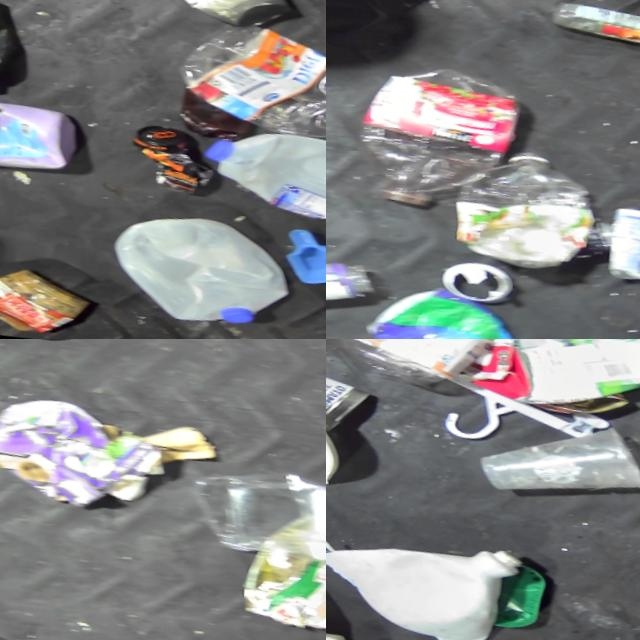can: (223, 508, 326, 640), (157, 0, 294, 51), (427, 260, 515, 324), (326, 366, 369, 429)
milk_jug: (85, 198, 294, 339), (326, 512, 520, 640), (183, 114, 326, 257)
non_white_jug: (459, 339, 640, 442), (341, 271, 562, 339), (0, 73, 79, 193)
plastic_bottle: (329, 50, 536, 239), (430, 141, 606, 300), (156, 9, 326, 172), (326, 339, 521, 413), (535, 0, 640, 80)
